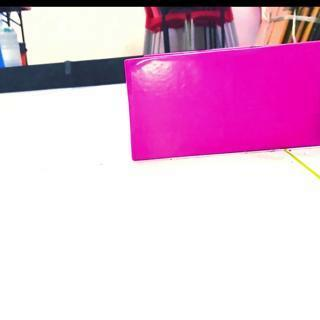xparking: (130, 60, 320, 154)
